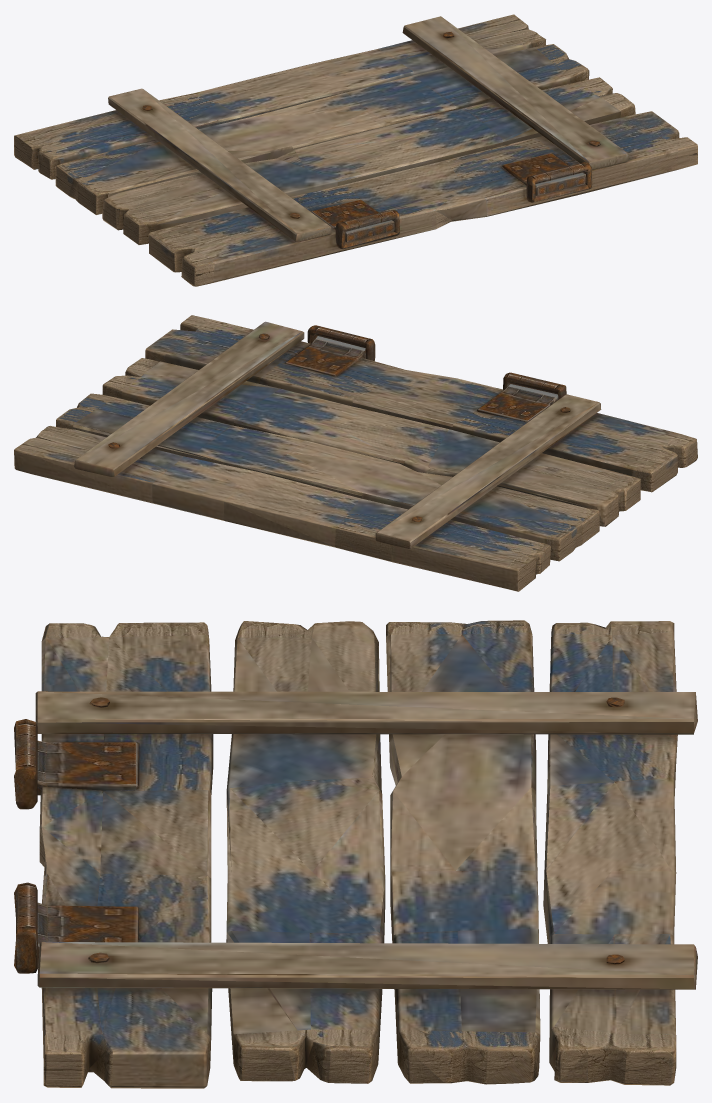
File: opening-crate-lid.glb
3 views of the same model, one above another, from view 1: azimuth 30°, elevation 25°; view 2: azimuth 150°, elevation 25°; view 3: azimuth 270°, elevation 25° (orthographic). The views are drawn at different scales.
Parts seen in each view (by area): view 1: mesh_node; view 2: mesh_node; view 3: mesh_node.
Part boxes in pixels (box(x1,y1,x2,y2)): mesh_node: box(14, 14, 697, 286); mesh_node: box(14, 315, 697, 591); mesh_node: box(14, 620, 697, 1088).
Bounding box in the file's own units: 1 × 0.0679 × 0.6738.
Materials: 1 (1 with a texture image).
